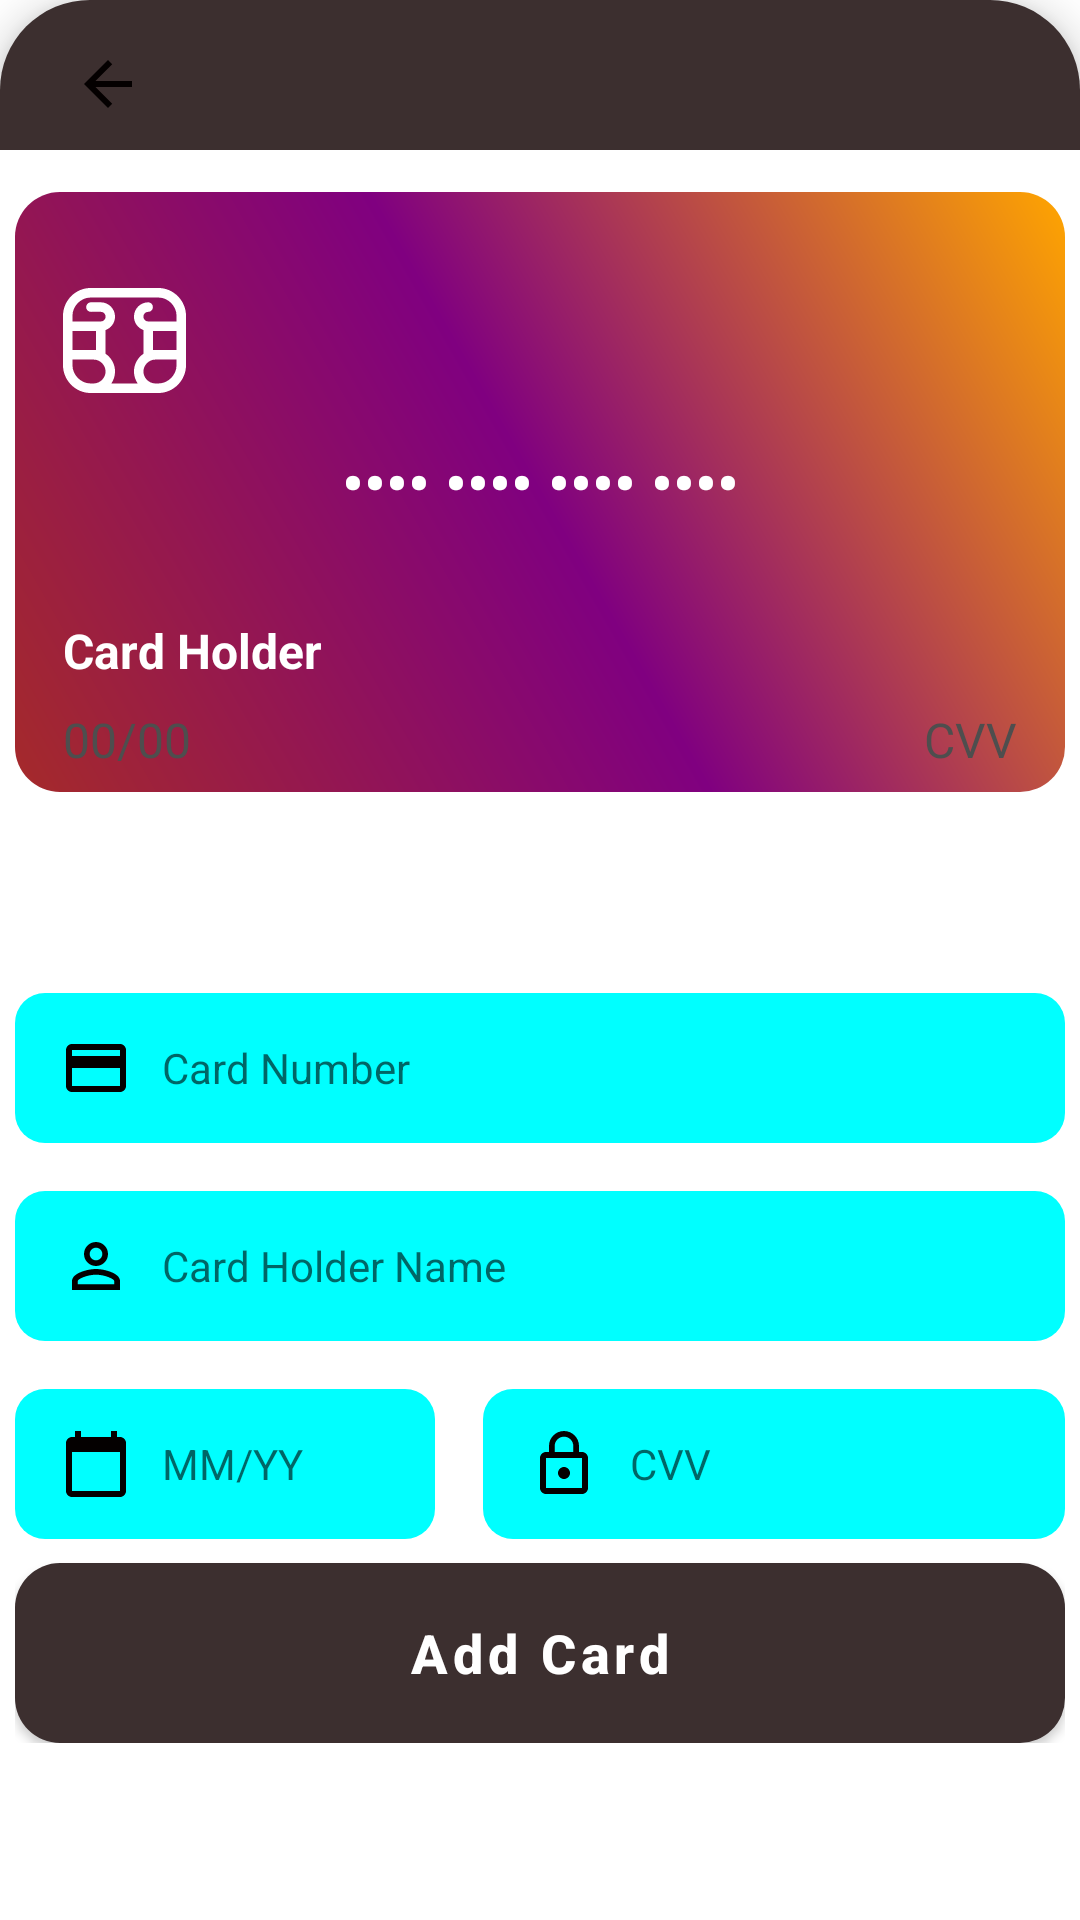

Screen size 1080 x 1920. Icon name, then its box in pixels as (x1, y1, x2, y2):
chip card: (63, 288, 186, 393)
